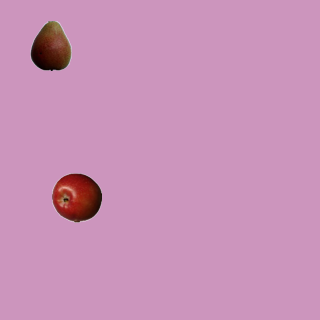Apple Braeburn: (51, 172, 101, 222)
Pear Forelle: (25, 20, 75, 70)
